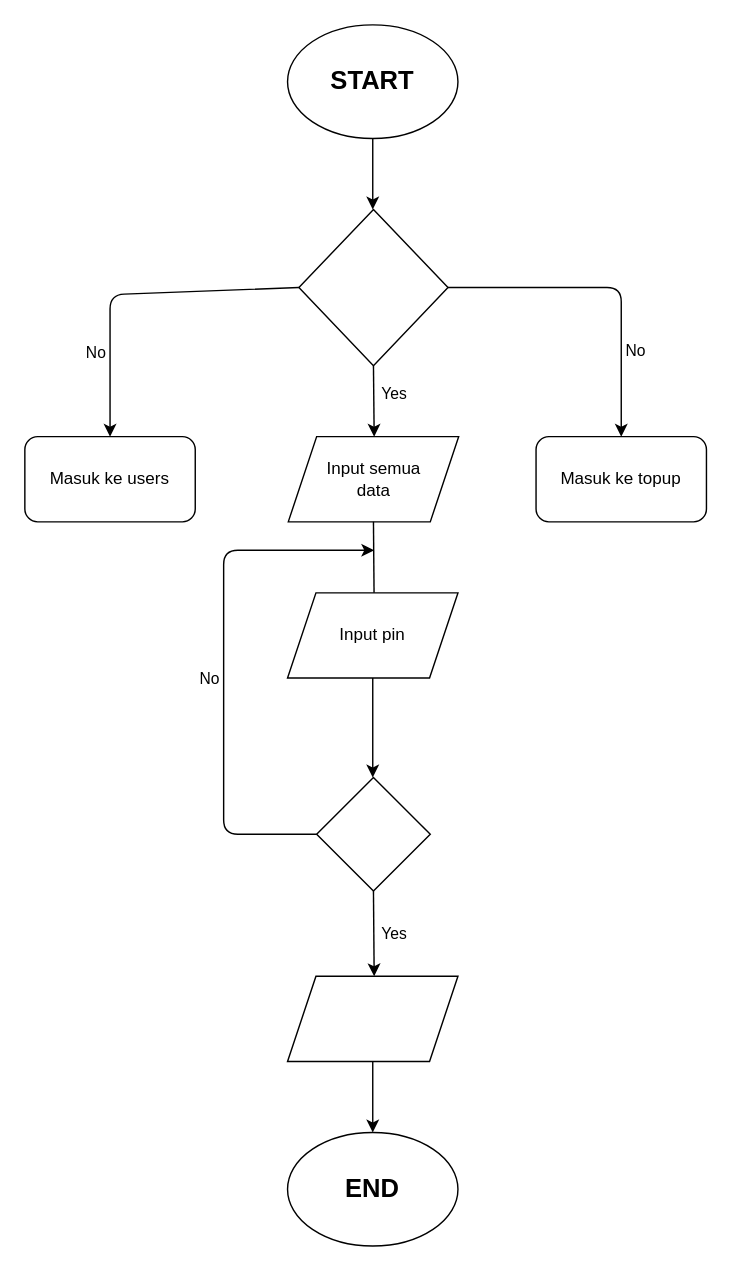
This 731x1271 diagram has some shape labels left out. Here are the shapes that lost their labels. From the top down, the centre of each, then its label:
the point at 372,287: transfer ?
the point at 372,833: True ?
the point at 372,1018: input kirim
